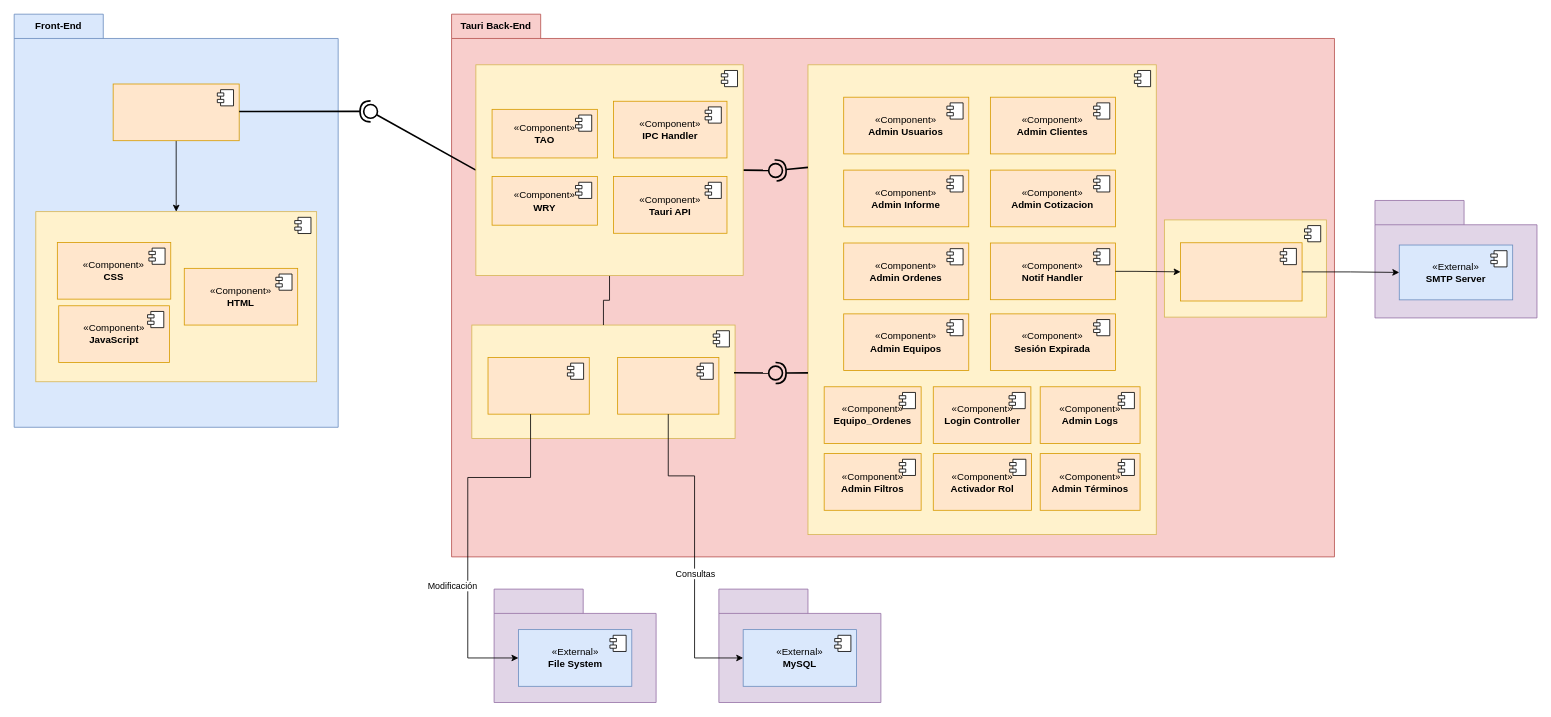
Some shapes in this 1551 by 717 pixel diagram are drawn without their labels. The shapes that lost their labels are listed below. From the top down, each one's box as (x1, y1, x2, y2) in pixels, then its label:
(112, 83, 239, 141): «Component» Webview2
(475, 64, 743, 275): Tauri Core
(1180, 242, 1302, 301): «Component» API Resend
(1164, 219, 1326, 317): API Externas
(1374, 200, 1537, 318): Servidor Email
(35, 211, 317, 382): React
(807, 64, 1156, 535): Controladores
(487, 357, 589, 414): «Component» Tauri File System
(471, 324, 735, 438): Tauri Plugins
(617, 357, 719, 414): «Component» SQLx
(493, 588, 656, 703): Sistema Local
(718, 588, 881, 703): BD
